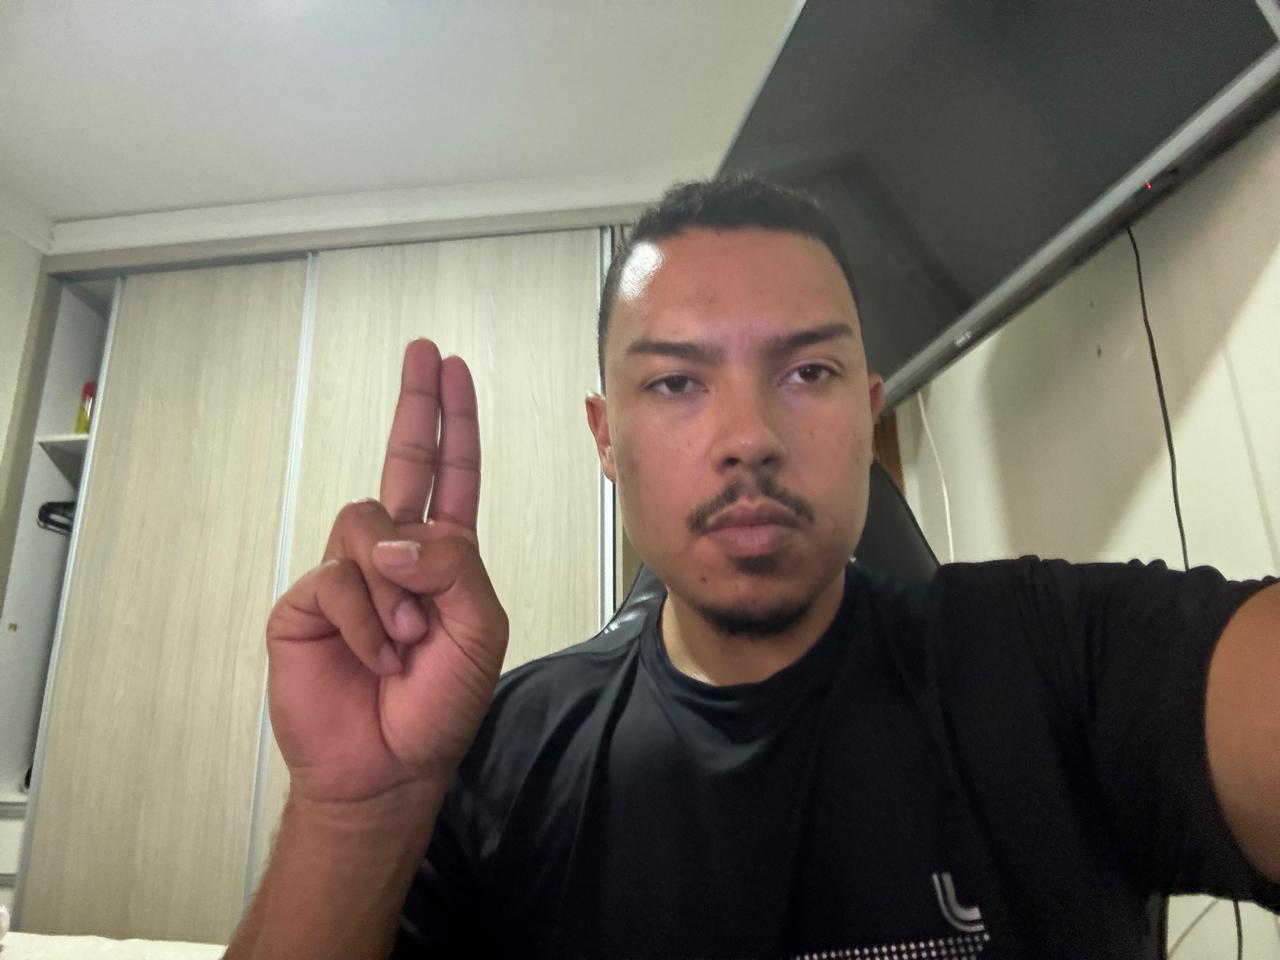u: (248, 334, 525, 802)
